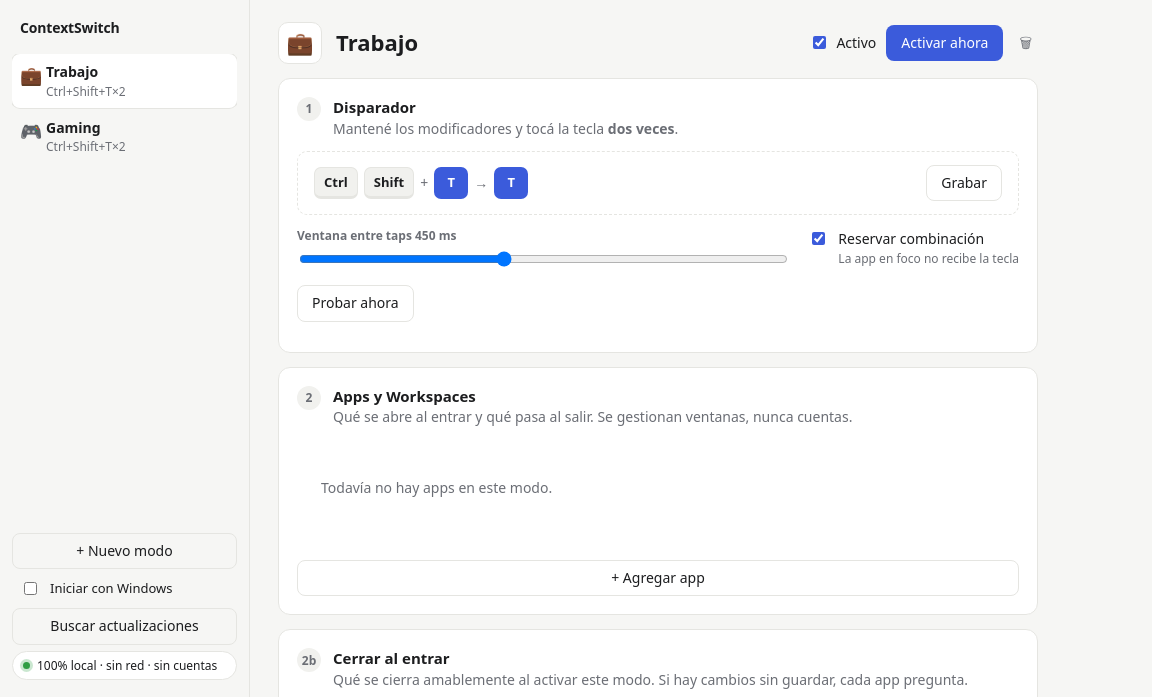
Test: <App/> (flujo de Ajustes con backend simulado) › avisa si dos modos activos usan el mismo atajo
This screenshot has width=1152, height=697.
Click the text "Gaming": x=73, y=128 [46,118,101,137]
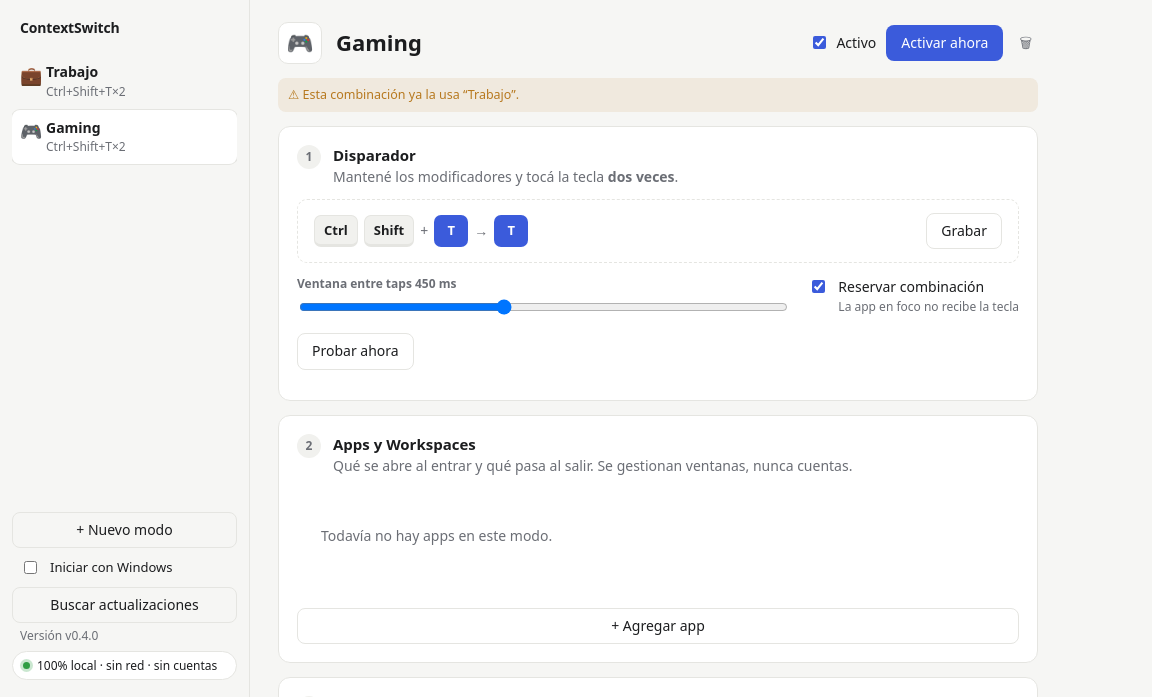
Expected: the text "⚠ Esta combinación ya la usa “Trabajo”." is shown, [278,78,1038,112]
